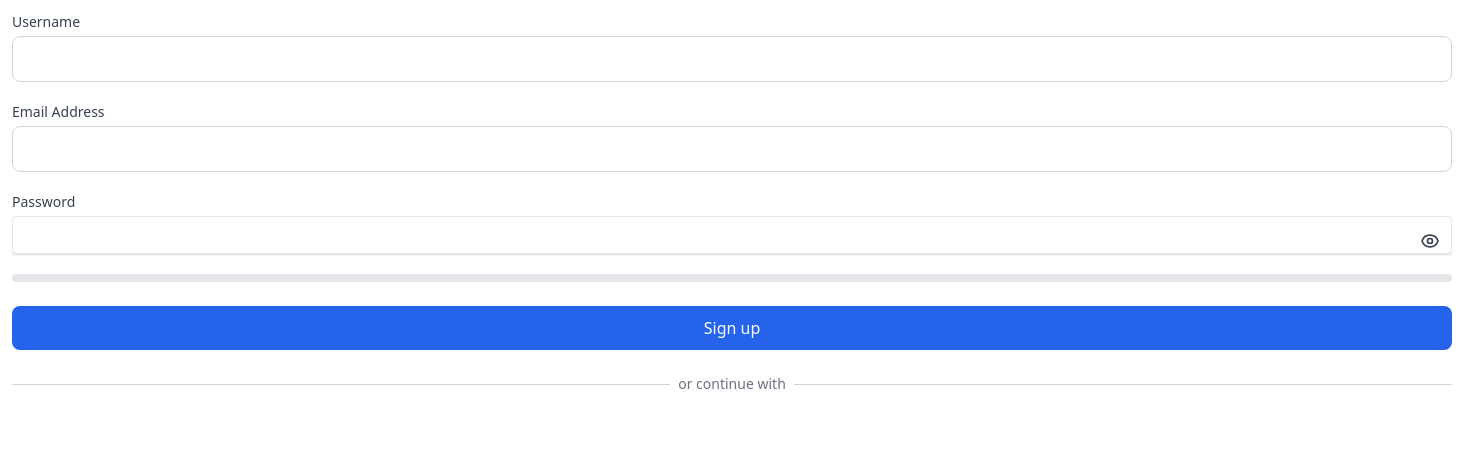
Register Component › Form Submission › handles registration failure and shows error message
Step 1. Type "existinguser" into the field named "username" below "Username" → (732, 59), box [12,36,1452,82]
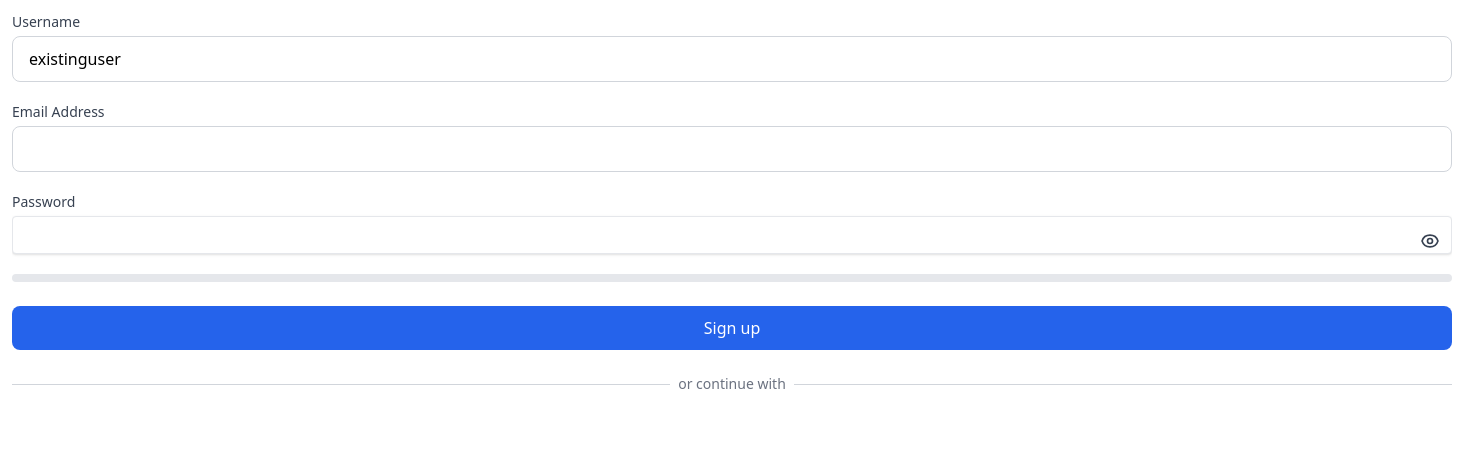
Step 2. Type "test@example.com" into the field named "email" below "Email Address" → (732, 149), box [12,126,1452,172]
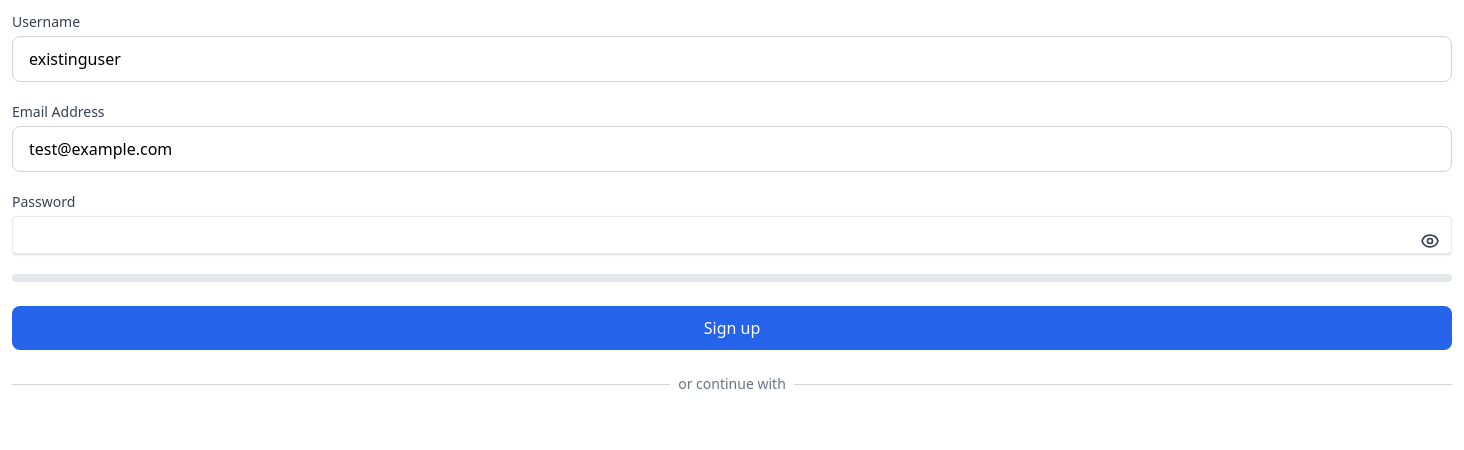
Step 3. Type "Password123!" into the password field named "password" → (732, 235), box [12,216,1452,254]
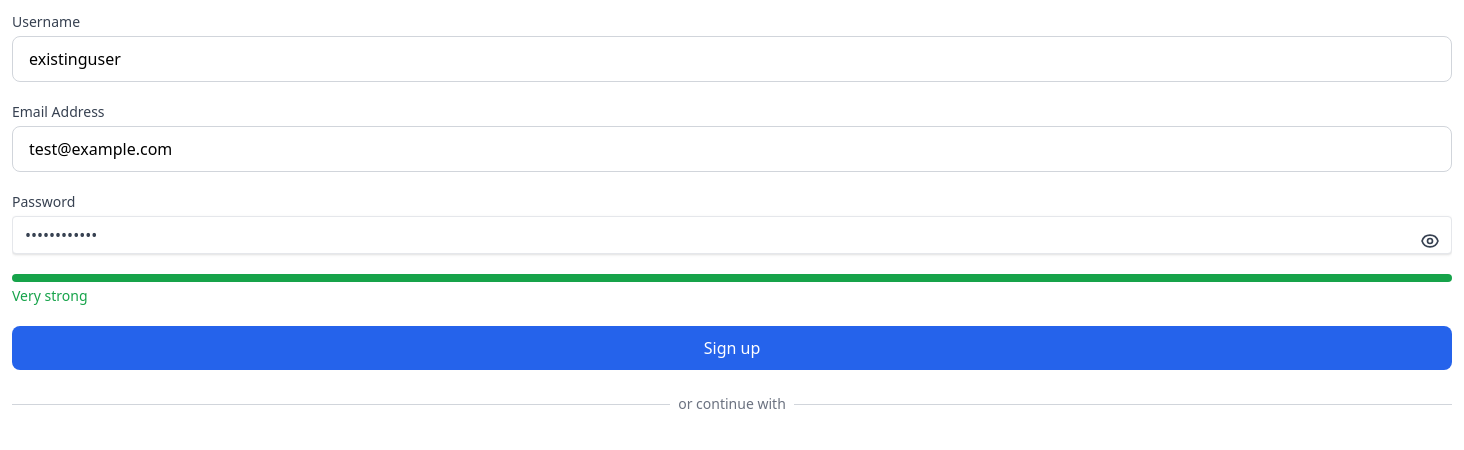
// Submit form
Step 4. Click the button "Sign up" → (732, 348), box [12,326,1452,370]
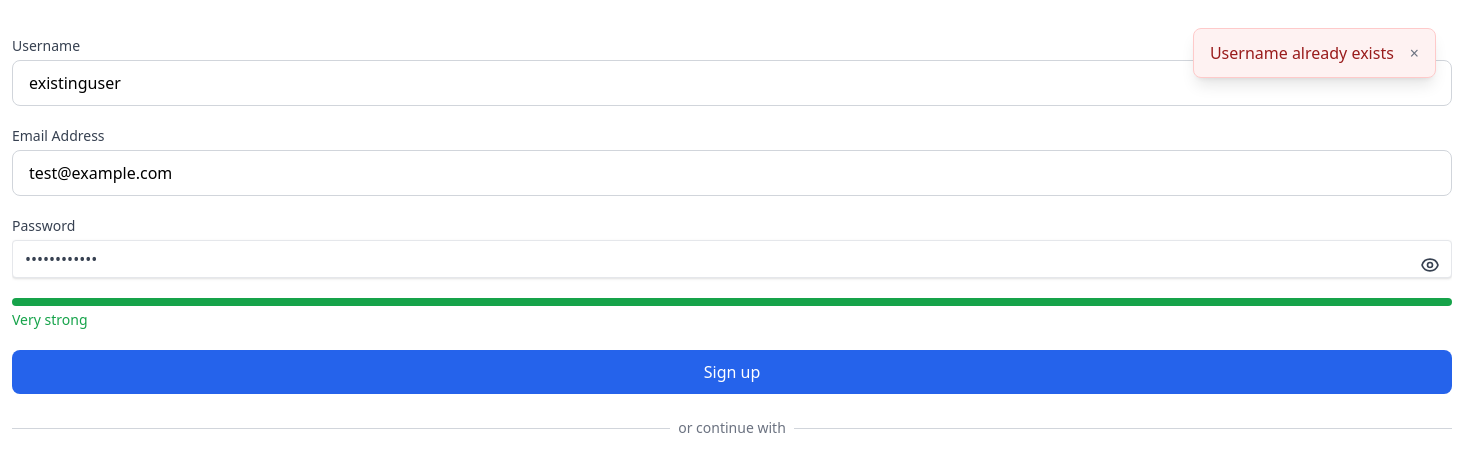
Expected: the text "Username already exists" is shown, [1210,41,1394,65]
